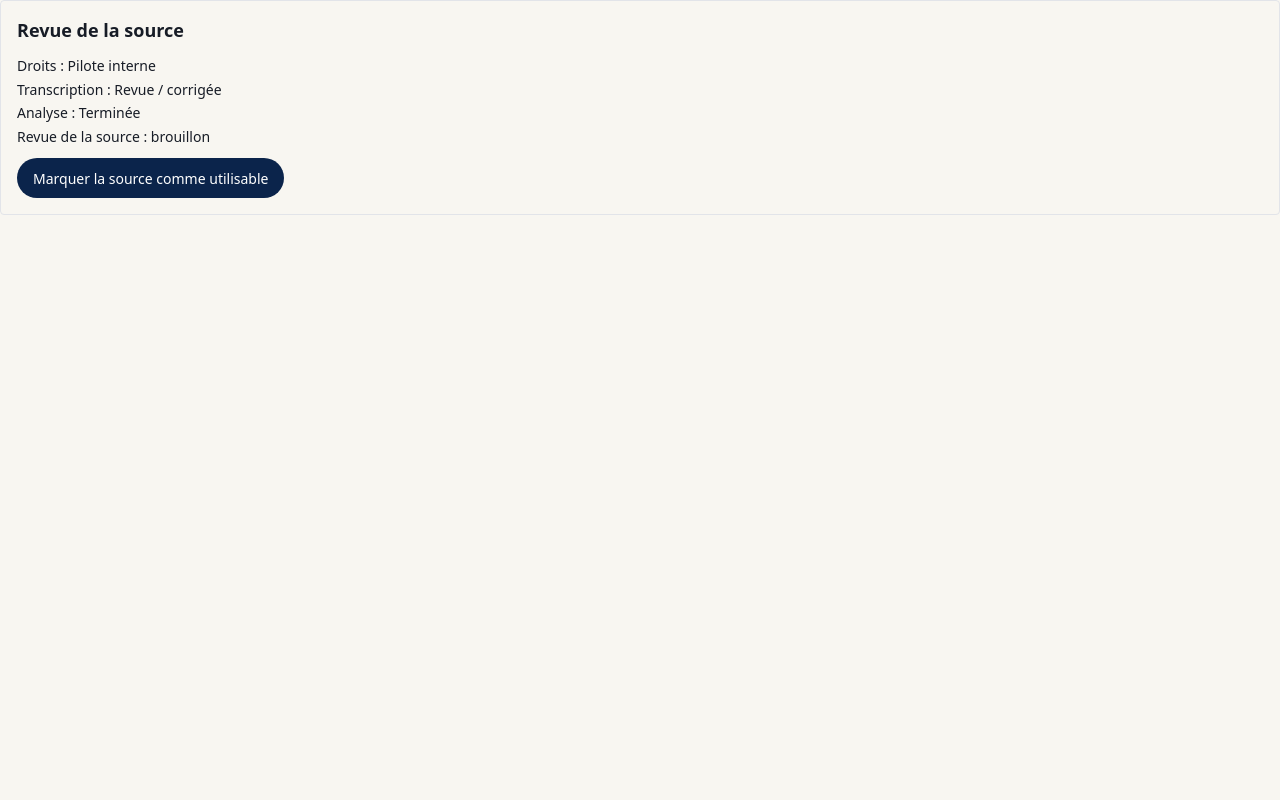
explicit source review › displays server refusal SOURCE_MP3_MISSING
Click the button "Marquer la source comme utilisable": (151, 178) [17, 158, 284, 198]
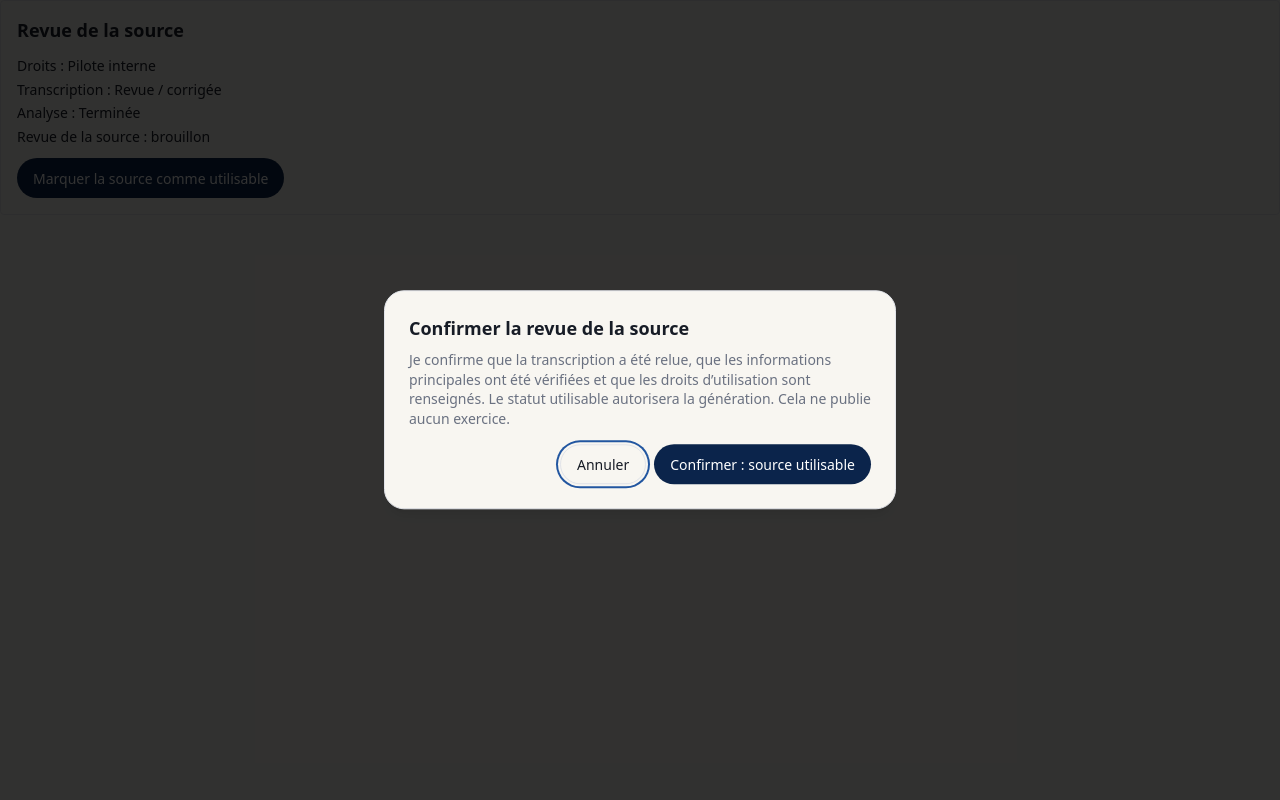
Check: the button "Confirmer : source utilisable" is shown
Click the button "Confirmer : source utilisable": (763, 465) [654, 445, 871, 485]
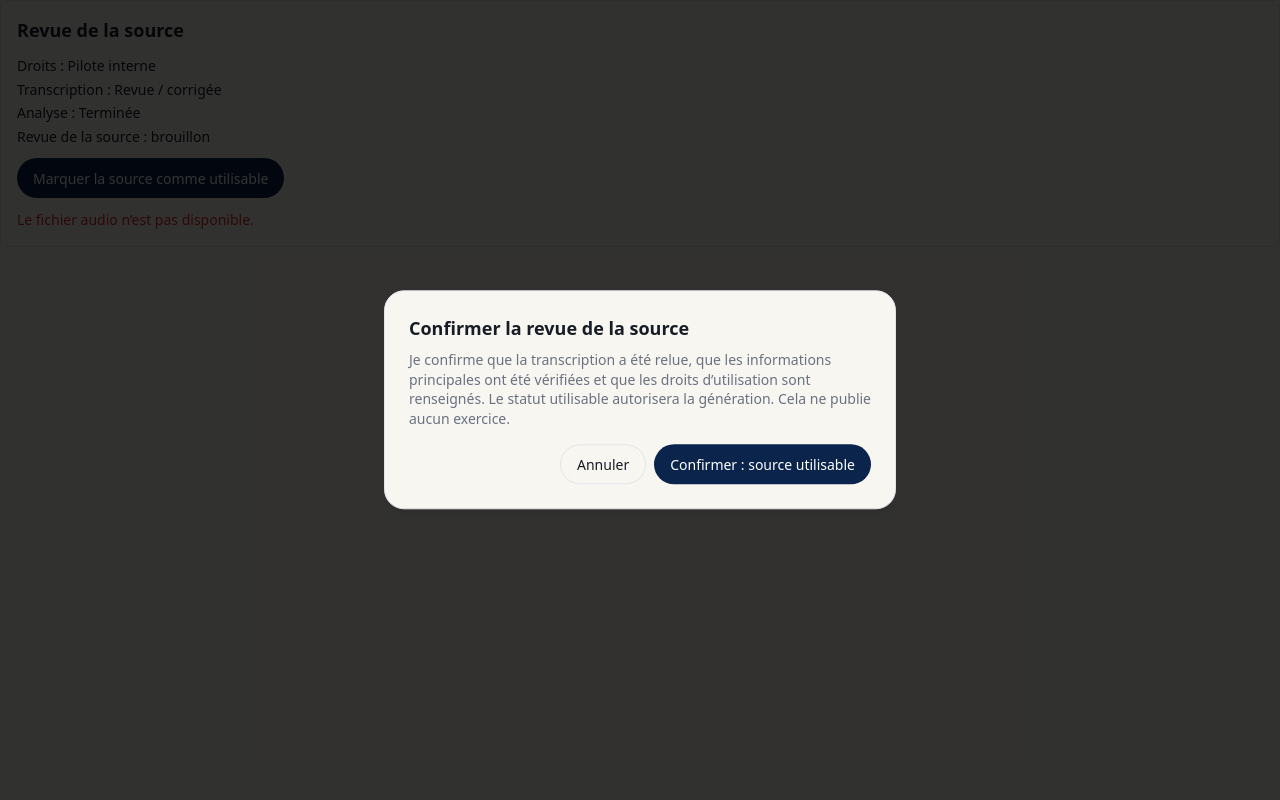
Check: the message "Le fichier audio n’est pas disponible." is shown, box [17, 210, 254, 229]
